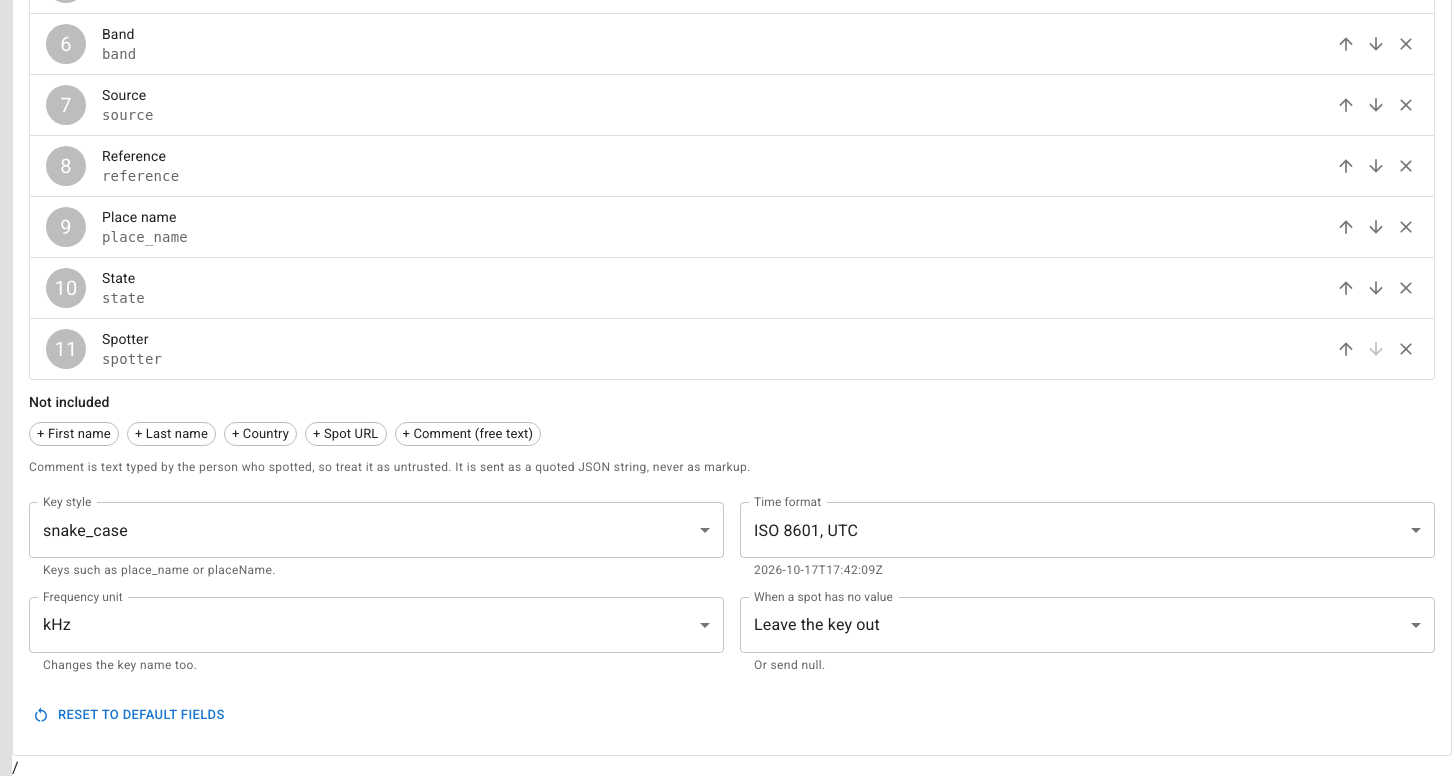
it: WebhookPayloadCard › names the keys by the key style and frequency unit
(page scrolled)
Click the dropdown named "Key style": x=85, y=530 [43,521,128,540]
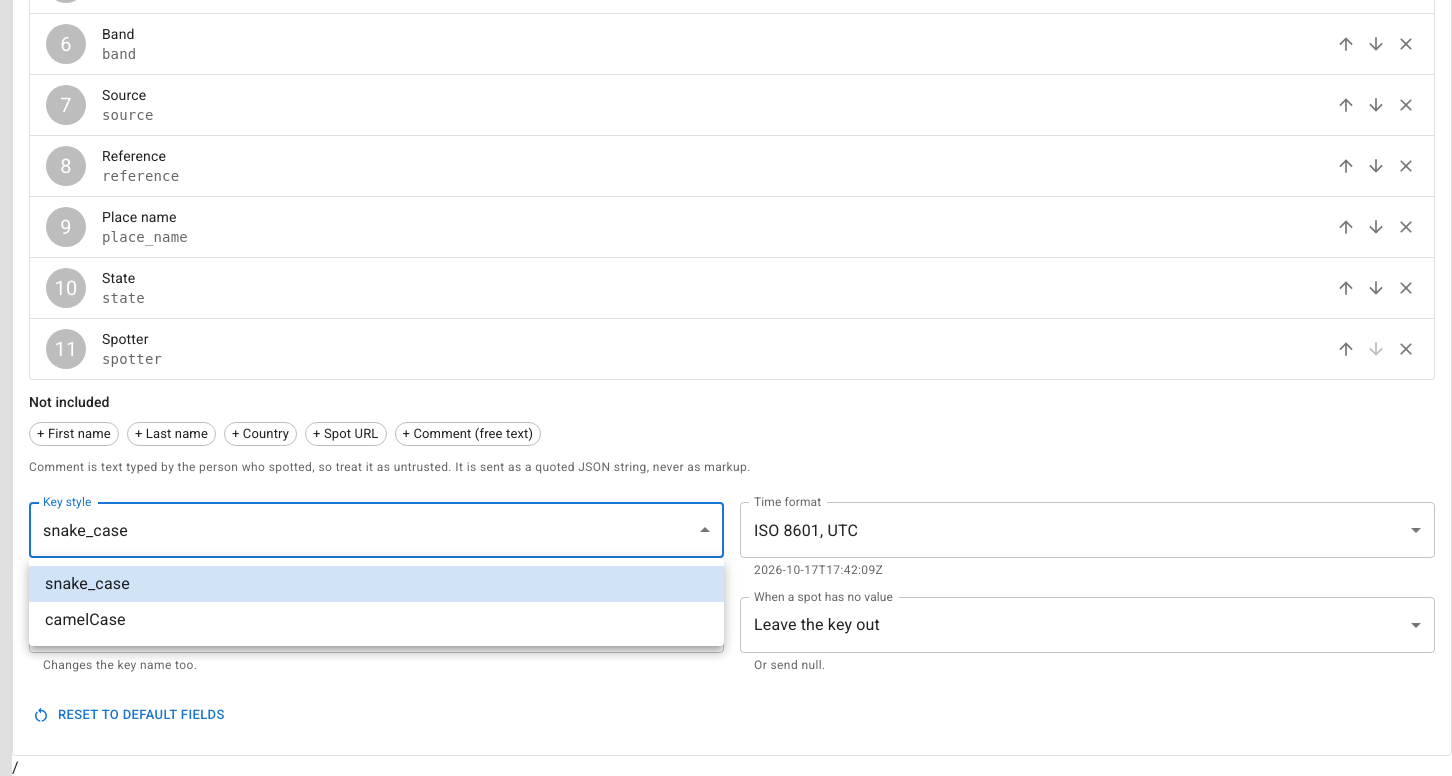
Click the option "camelCase": x=85, y=620 [45,610,126,629]
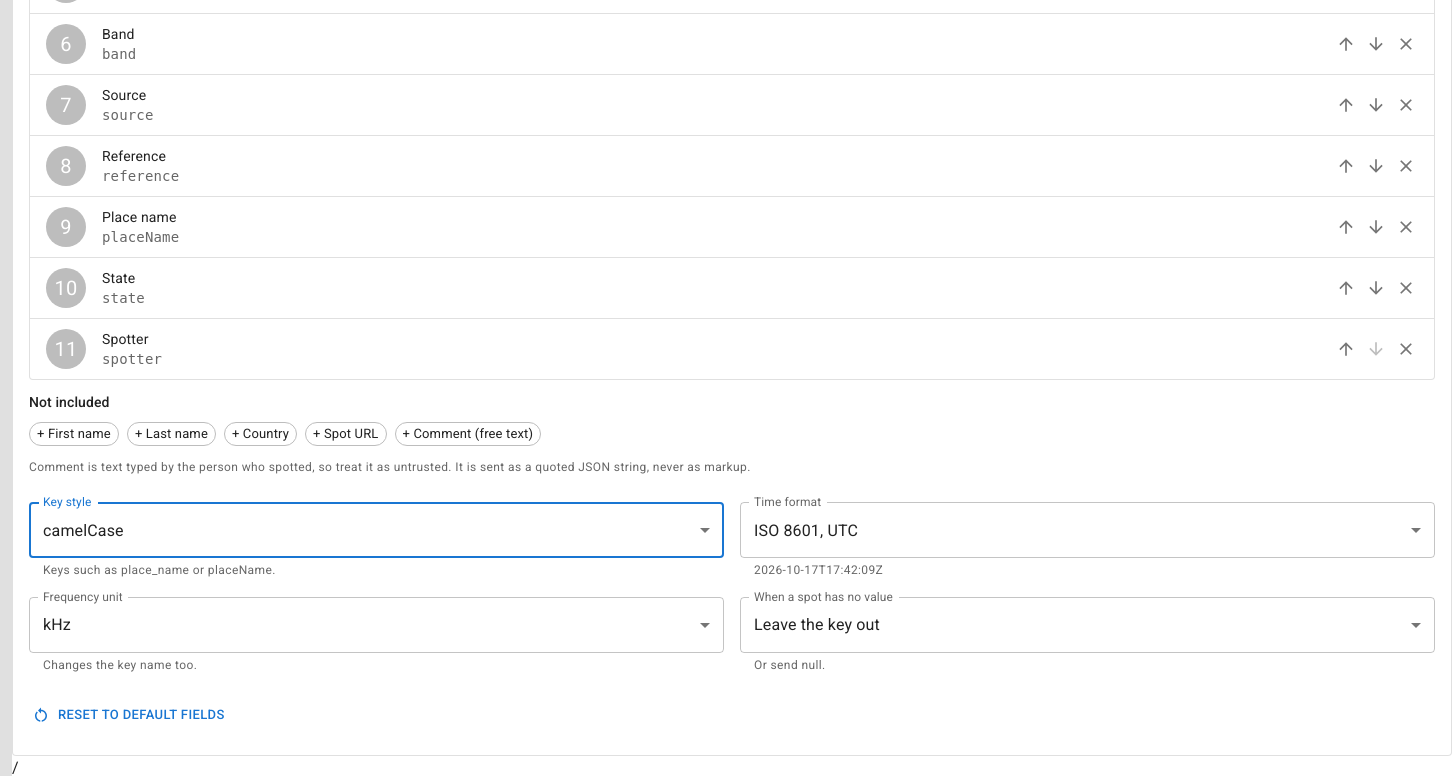
Check: the text "placeName" is shown, box [102,229,179,245]
Click the dropdown named "Frequency unit": x=57, y=625 [43,616,71,634]
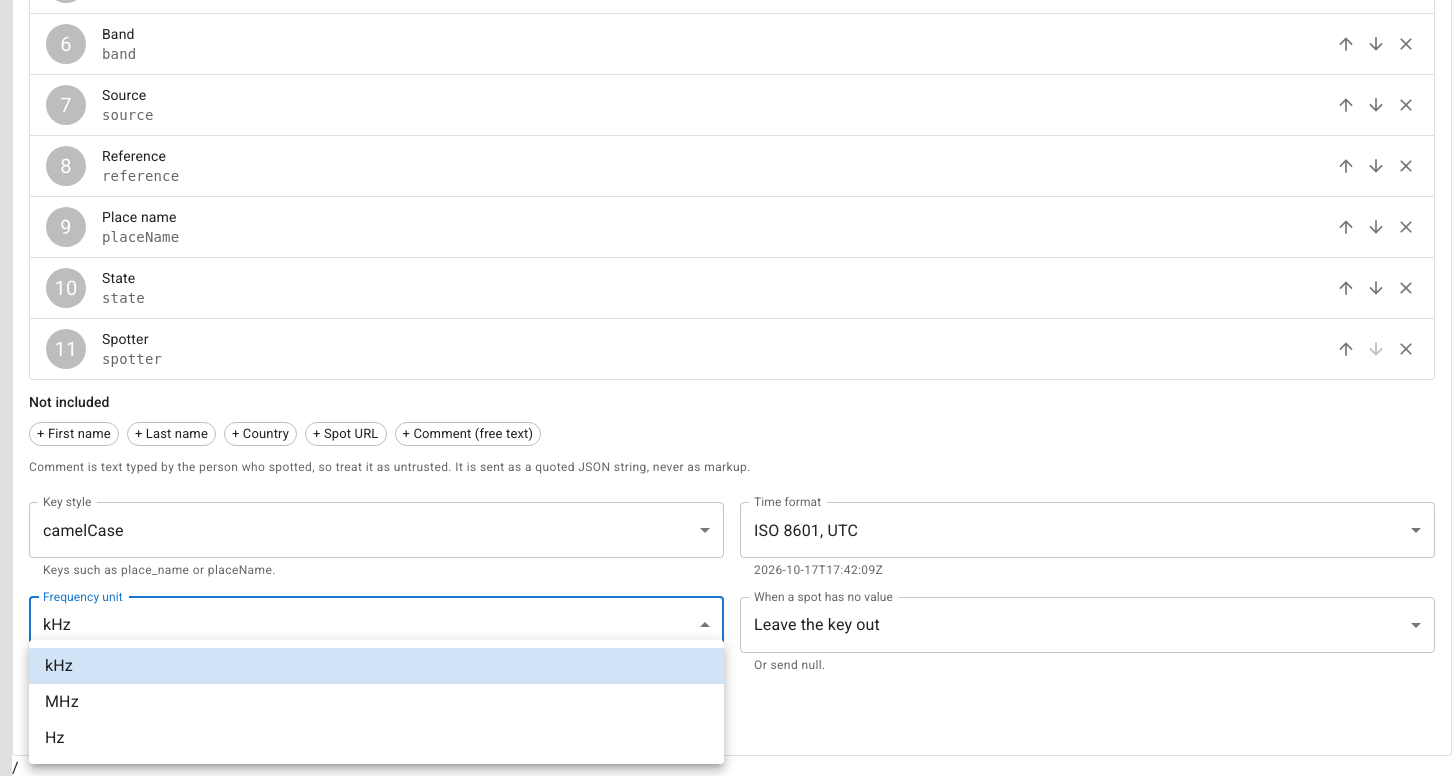
Click the option "MHz": x=62, y=702 [45,692,79,711]
(page scrolled)
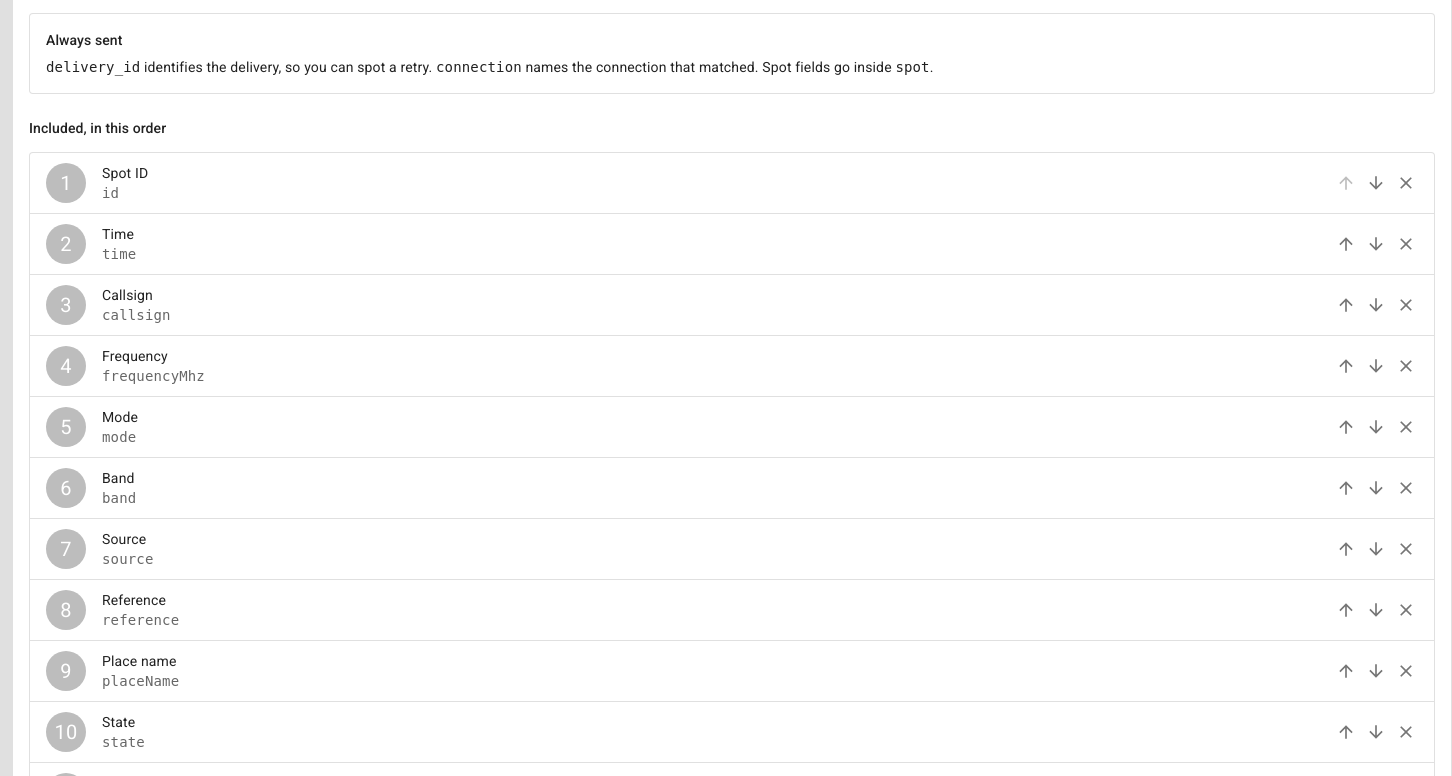
Check: the text "frequencyMhz" is shown, box [102,368,205,384]
